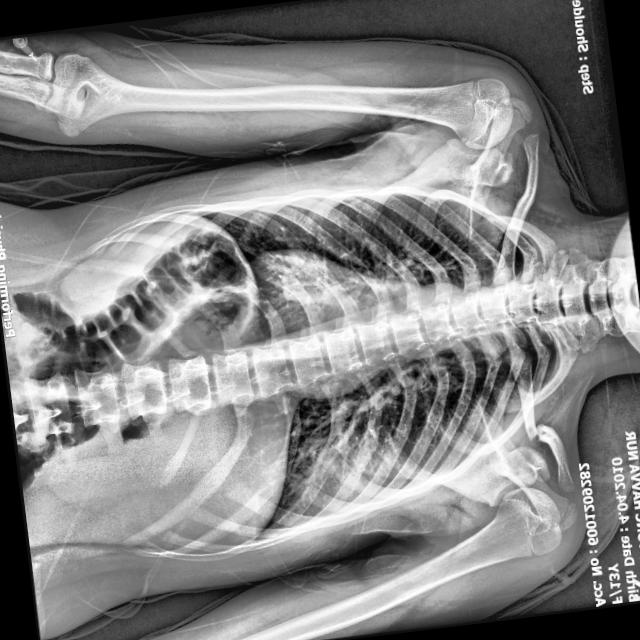Fracture: (521, 419, 558, 445)
